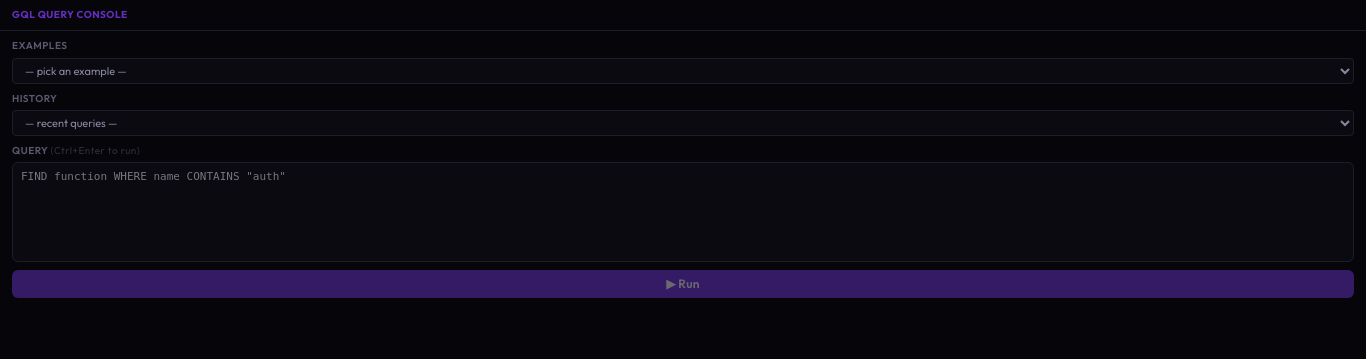
QueryPanel › renders empty path state
This screenshot has width=1366, height=359.
Type "PATH FROM \"a\" TO \"b\"" into the text box with placeholder "FIND function WHERE name CONTAINS \"auth\"" at (683, 212), box top-left (12, 162), bottom-right (1354, 262)
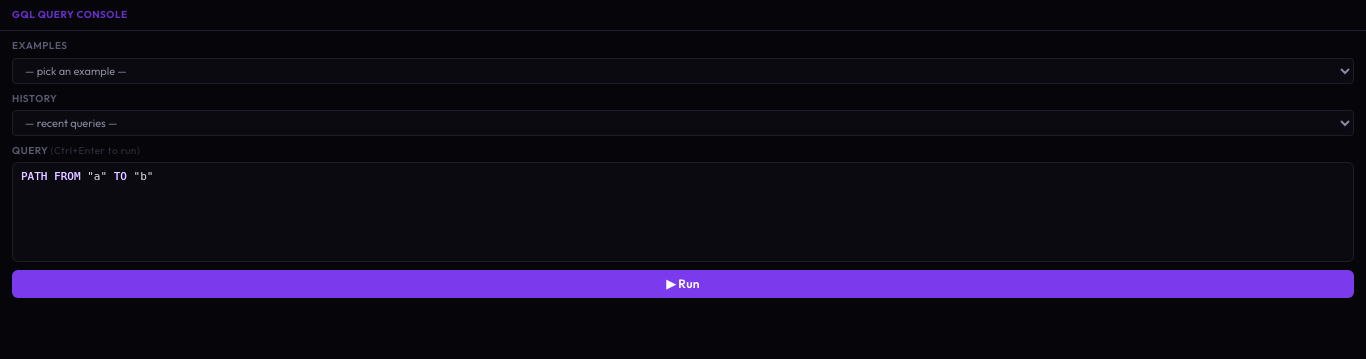
Click the button "▶ Run" at (683, 284), box top-left (12, 270), bottom-right (1354, 298)
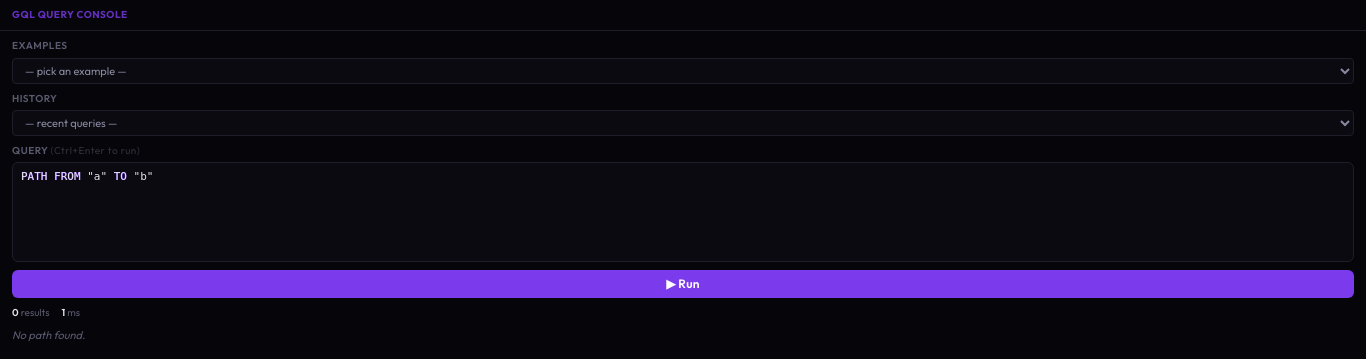
Now the text "No path found." is shown, box top-left (12, 328), bottom-right (85, 342)
